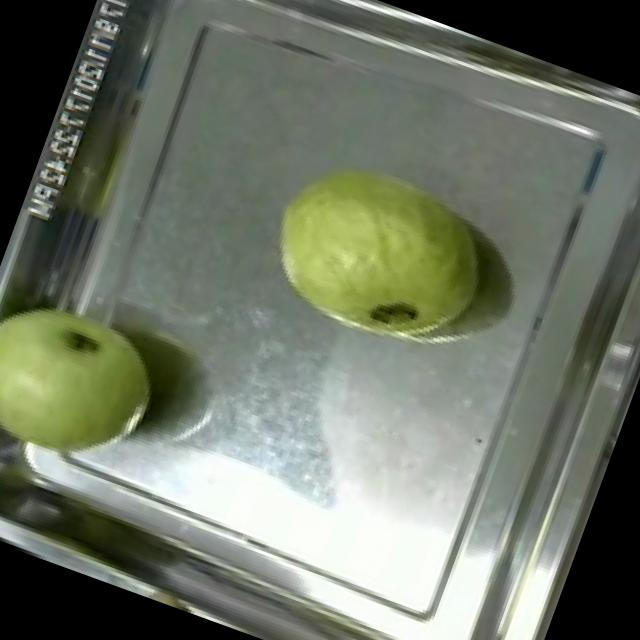Fruit: (242, 130, 514, 378), (0, 272, 183, 504)
